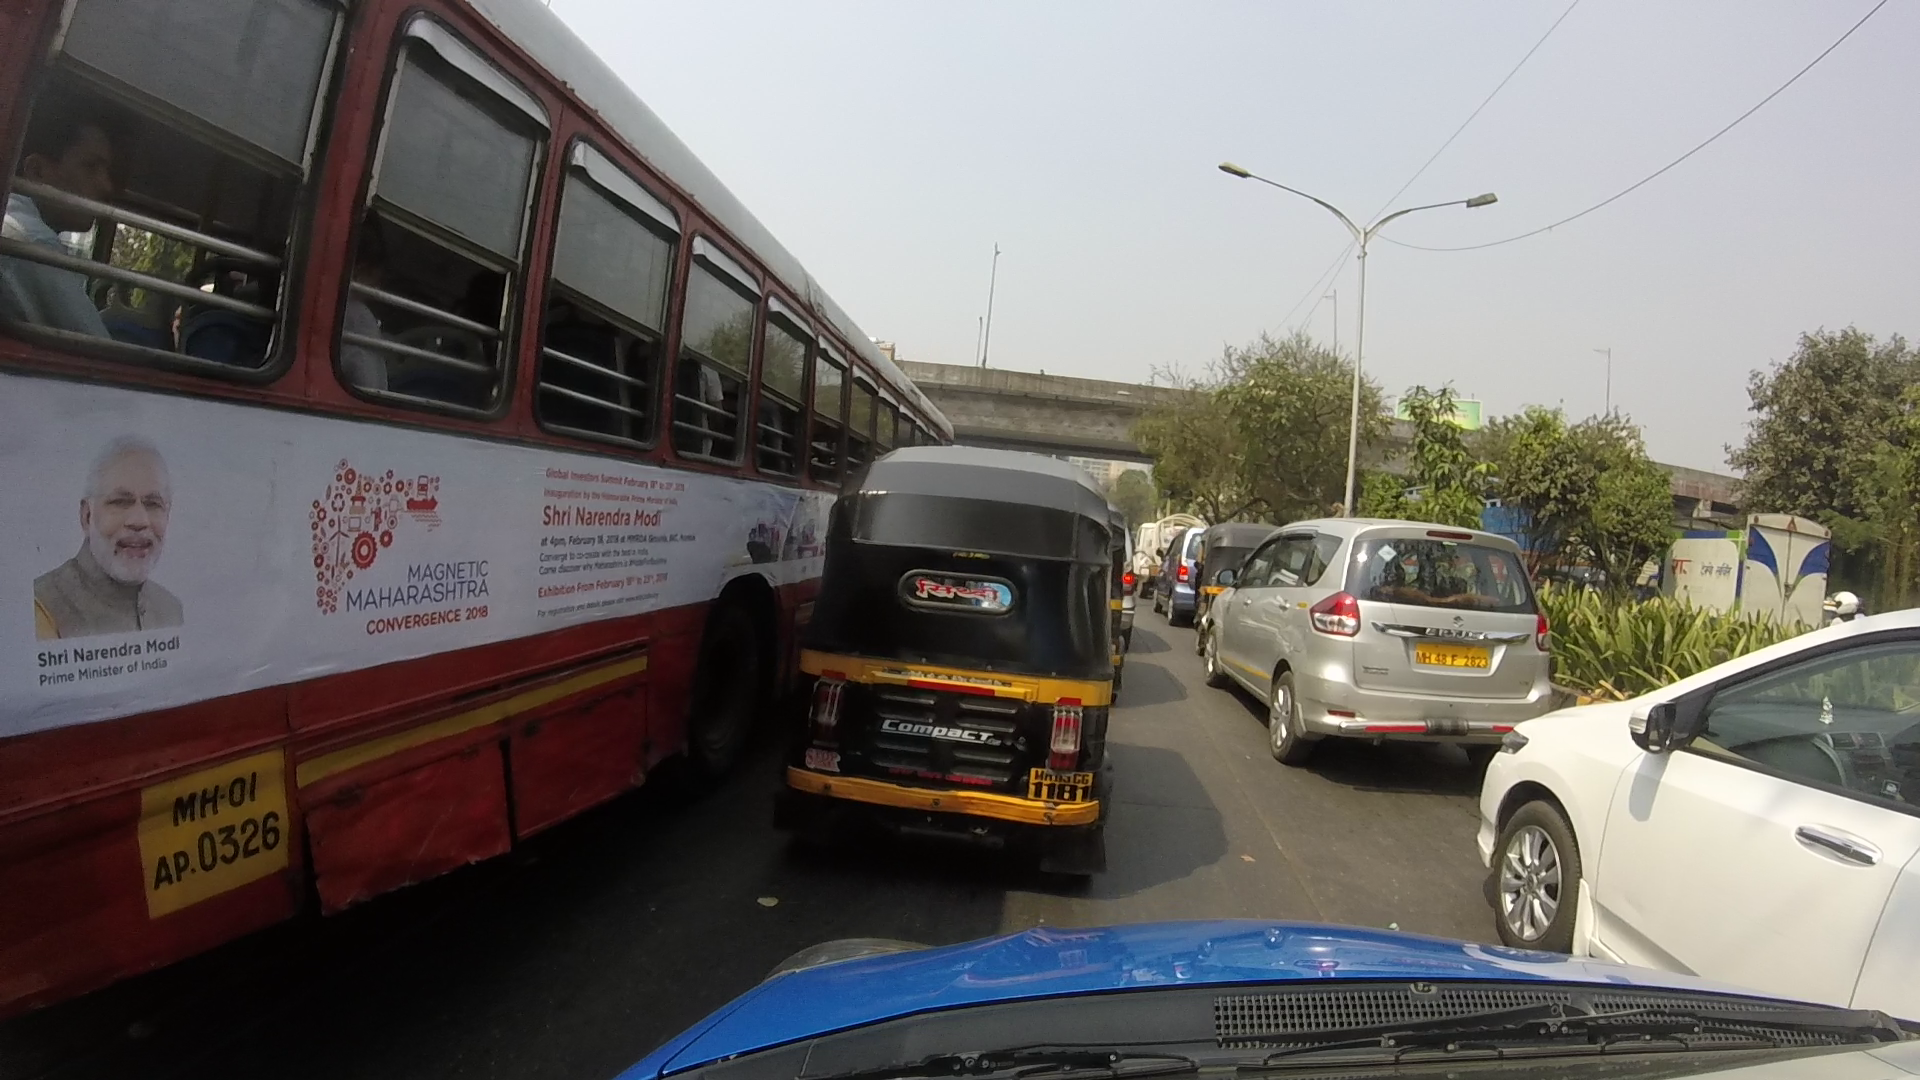bus: (51, 4, 943, 982)
car: (1493, 604, 1920, 1000), (1216, 522, 1522, 771)
rickshaw: (802, 442, 1122, 891)
